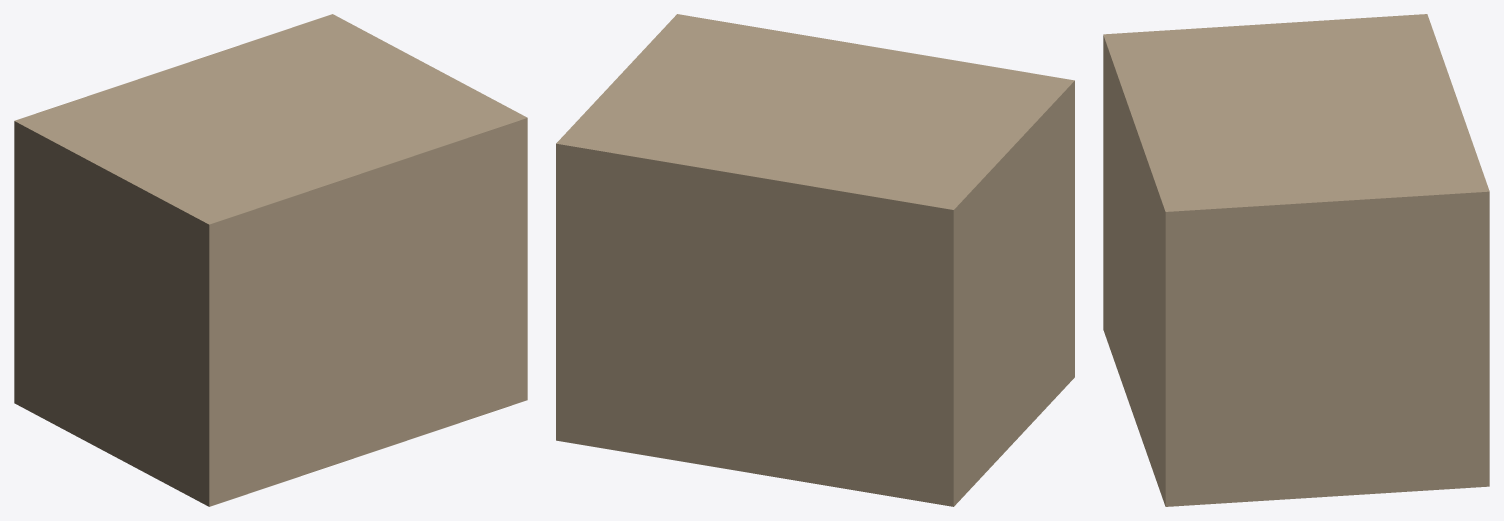
File: bld_107639482.dae
3 renders of one model, left to right at view 1: azimuth 30°, elevation 25°; view 2: azimuth 150°, elevation 25°; view 3: azimuth 270°, elevation 25°, orthographic. The views are drawn at different scales.
Visible parts, largest first — view 1: bld_107639482; view 2: bld_107639482; view 3: bld_107639482.
Boxes of the visible parts, x1=… form: bld_107639482: x1=14, y1=14, x2=527, y2=506; bld_107639482: x1=556, y1=14, x2=1074, y2=506; bld_107639482: x1=1103, y1=14, x2=1489, y2=506.
Size of the model in its own units: 11.52 by 9.5 by 8.
